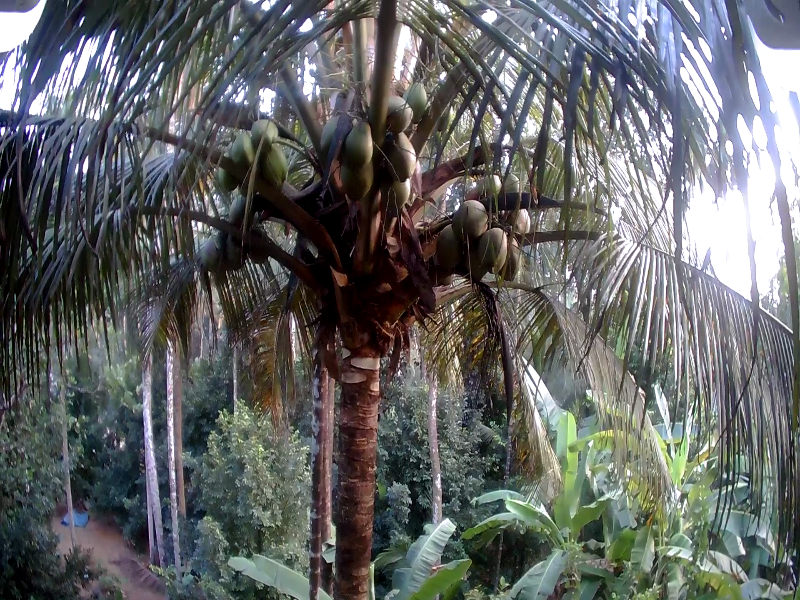coconut: (378, 165, 414, 209), (496, 232, 526, 283), (200, 236, 235, 278), (329, 153, 366, 192), (454, 200, 498, 232), (343, 117, 375, 159), (222, 193, 255, 231), (381, 127, 408, 172), (380, 96, 411, 134), (474, 227, 500, 272), (257, 147, 283, 188), (401, 82, 428, 120), (216, 157, 239, 192), (229, 130, 249, 167), (248, 120, 273, 149), (501, 202, 525, 231), (324, 115, 342, 153), (475, 172, 499, 197), (500, 168, 518, 194)
